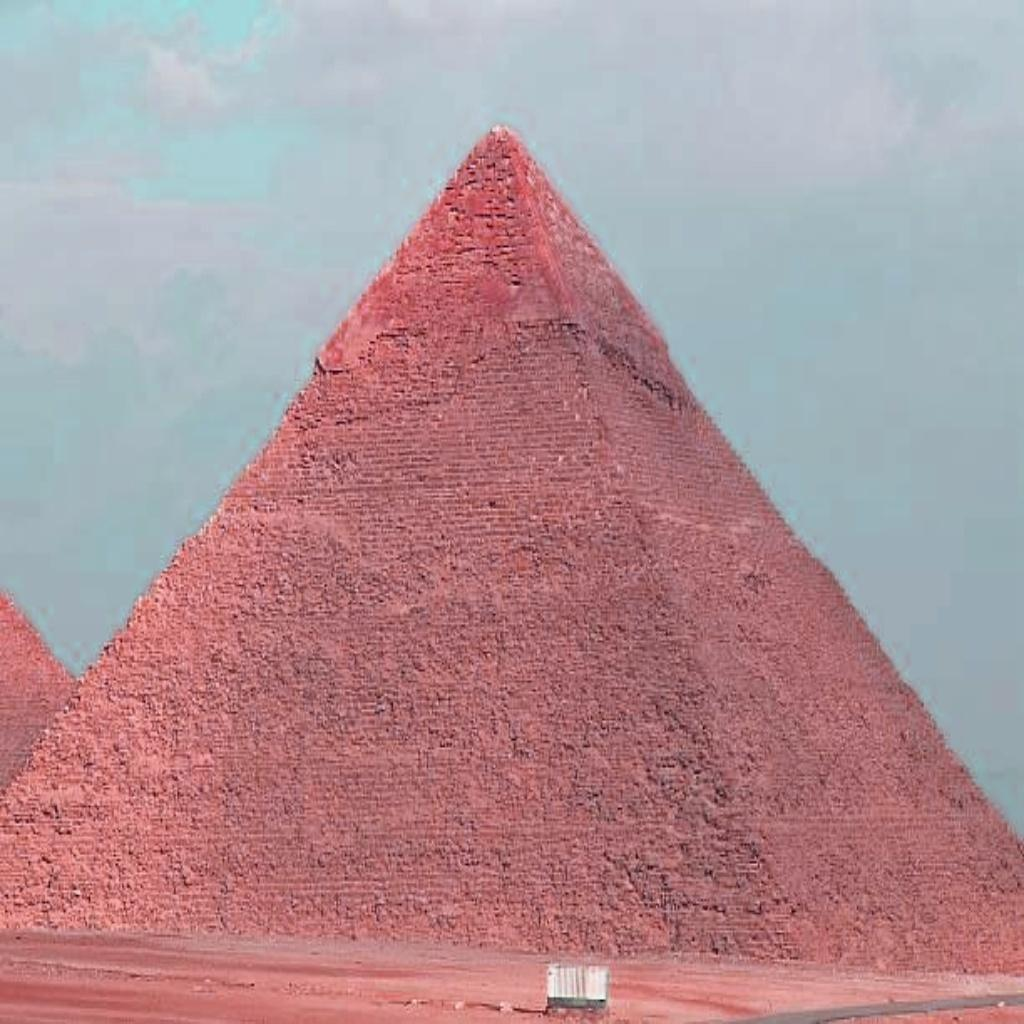Great Pyramids of Giza: (2, 118, 1019, 980)
